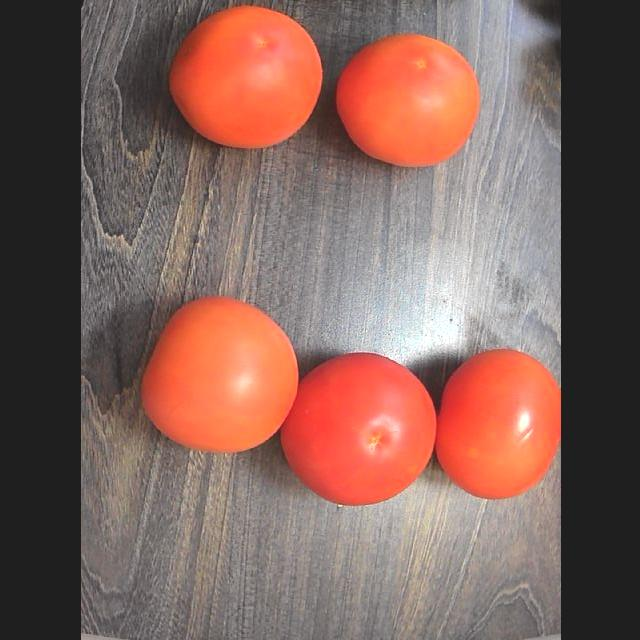tomate: (142, 297, 297, 453), (280, 353, 435, 506), (169, 6, 320, 148), (336, 34, 479, 167), (435, 349, 560, 499)
